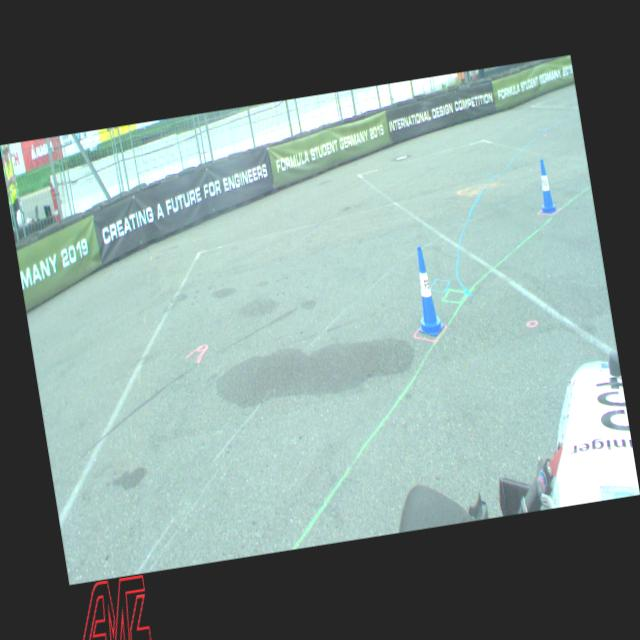blue_cone: (406, 245, 446, 338), (533, 158, 557, 214)
